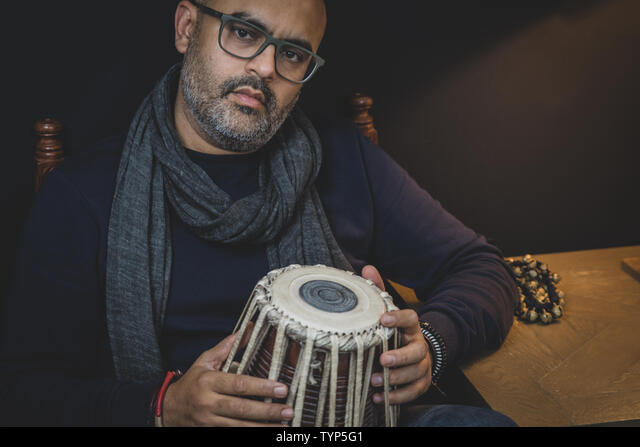tabla: (221, 265, 398, 427)
